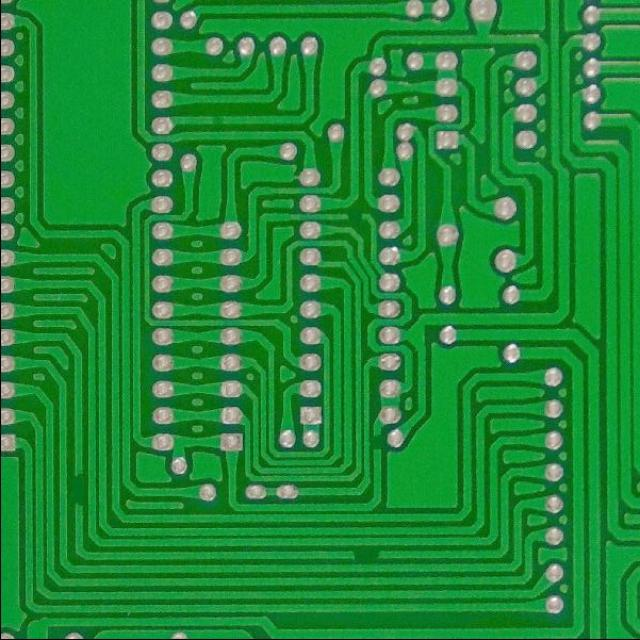Open_Circuit: (68, 464, 88, 516), (344, 546, 388, 564), (338, 206, 371, 224), (368, 427, 387, 458)
